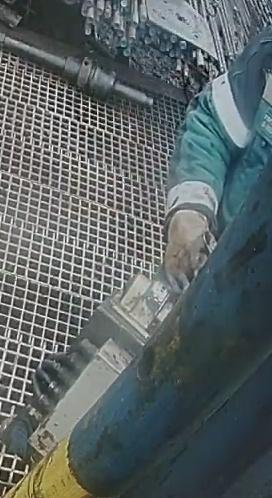gloves: (160, 203, 218, 290)
vest: (171, 22, 272, 205)
